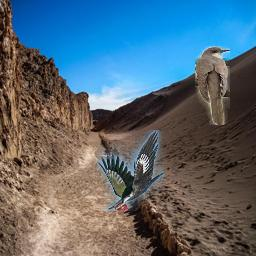Cuckoo: (196, 47, 231, 126)
Woodpecker: (98, 131, 165, 212)
